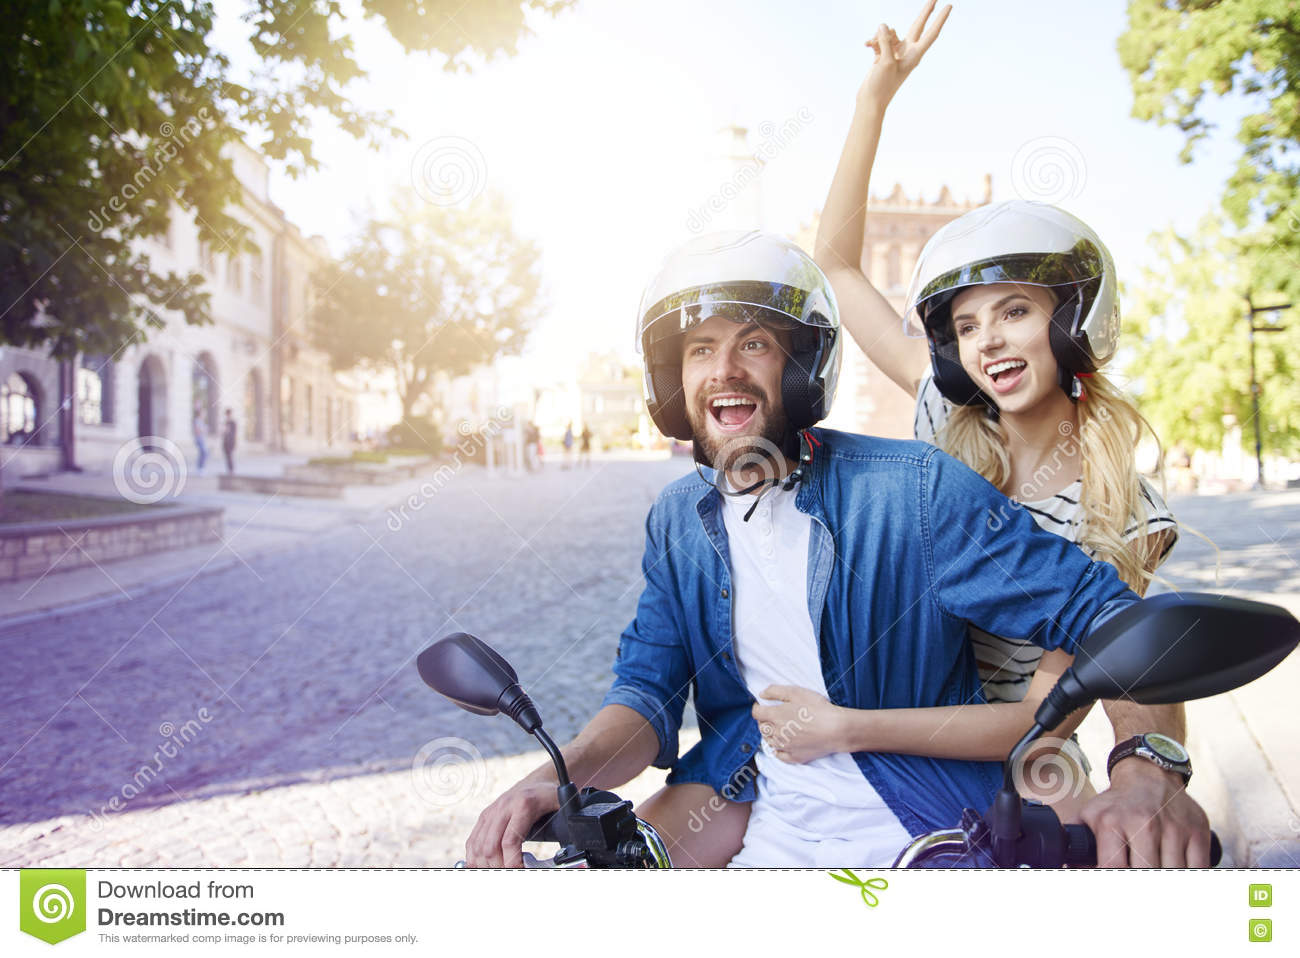helmet: (614, 233, 846, 445), (907, 208, 1139, 394)
